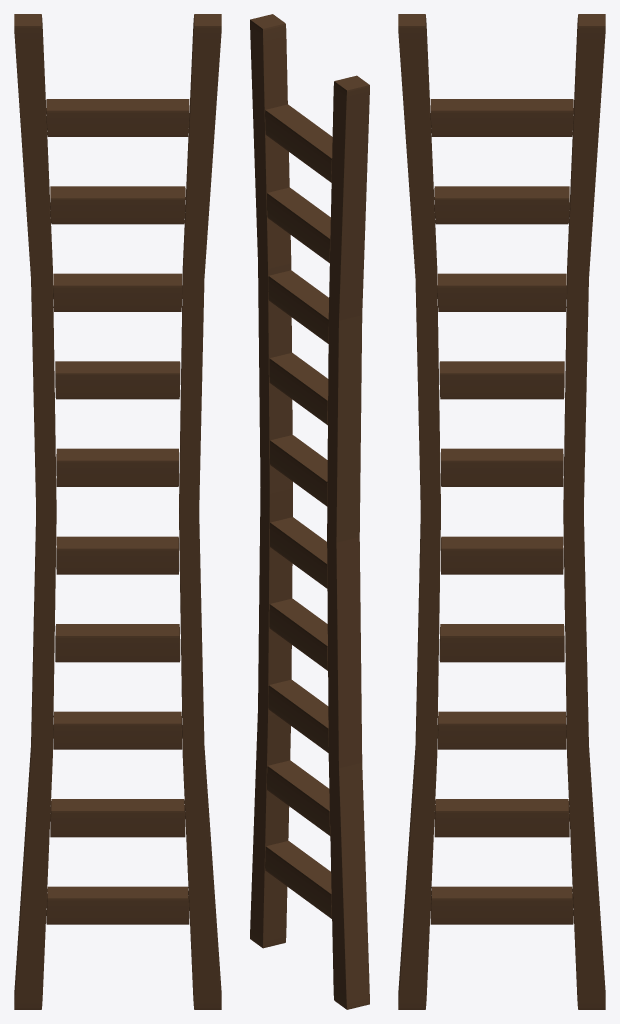
File: Ladder_V1.fbx
3 views of the same model, side by side, from view 1: azimuth 90°, elevation 25°; view 2: azimuth 210°, elevation 25°; view 3: azimuth 270°, elevation 25° (orthographic). The views are drawn at different scales.
Visible parts, largest first — view 1: Cube.034; view 2: Cube.034; view 3: Cube.034.
Part boxes in pixels (x1,y1,x2,y2): Cube.034: (14,14,221,1009); Cube.034: (250,14,369,1009); Cube.034: (398,14,605,1009).
Bounding box in the file's own units: 6 × 225 × 43.03.
